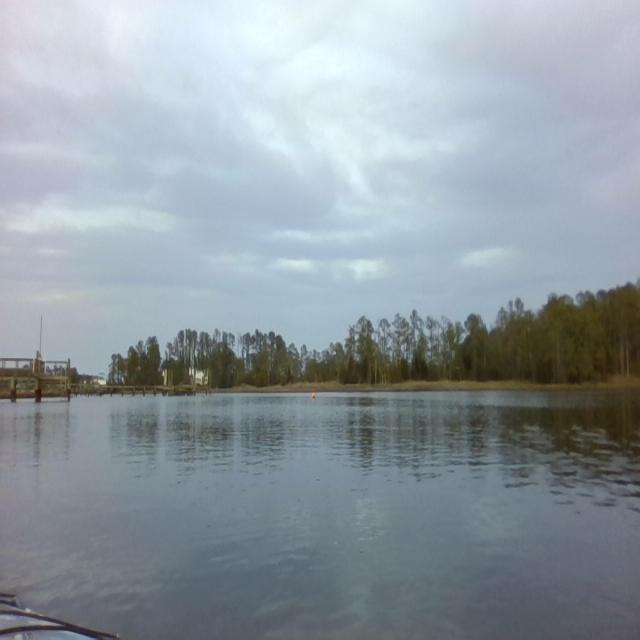Buoy: (310, 390, 318, 400)
